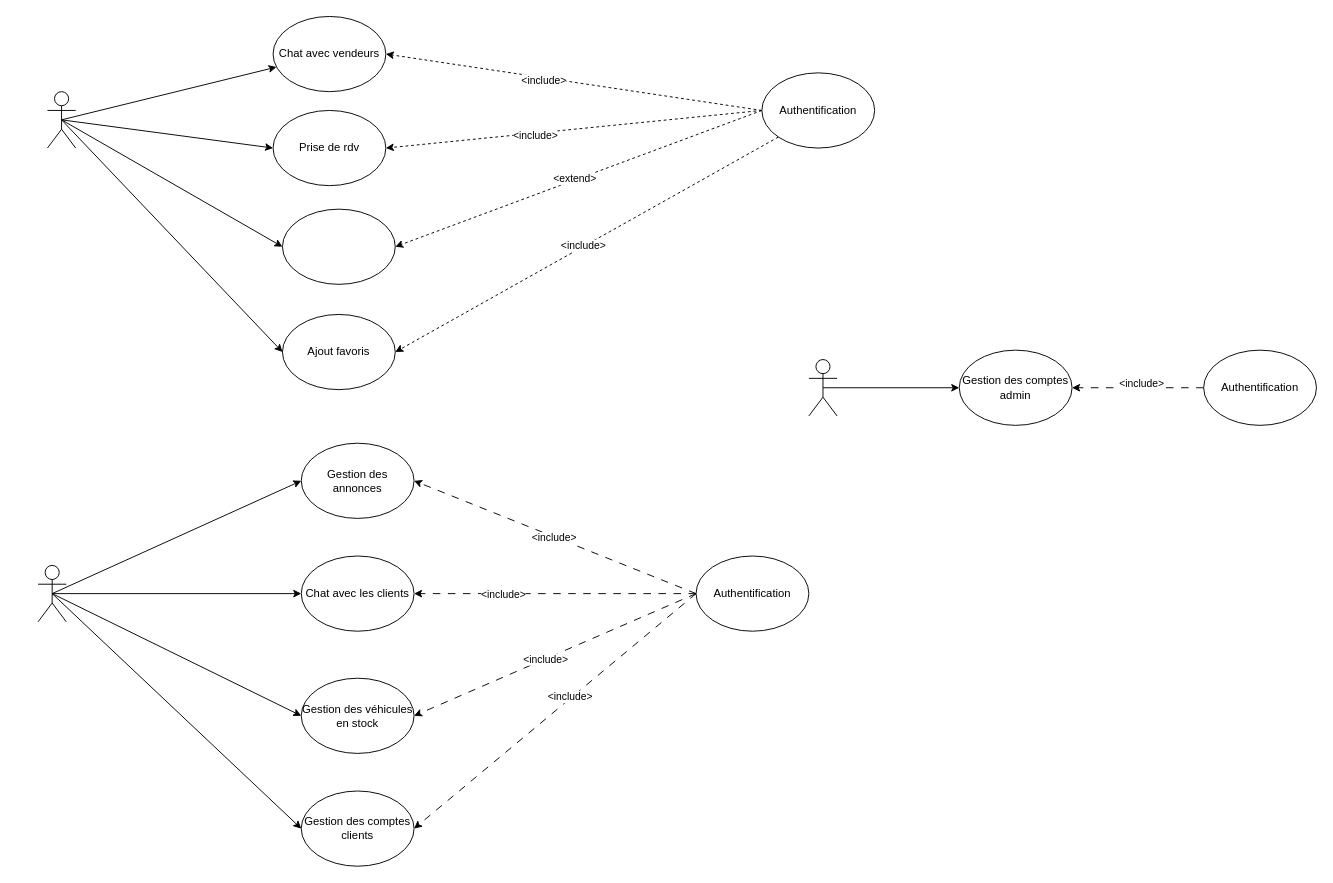
Some shapes in this 1333 by 883 pixel diagram are drawn without their labels. The shapes that lost their labels are listed below. From the top down, each one's centre as x and y in pixels, then its label:
the point at 61,119: Client
the point at 338,246: Consulter les annonces
the point at 822,387: Super-admin
the point at 51,593: Administrateur
